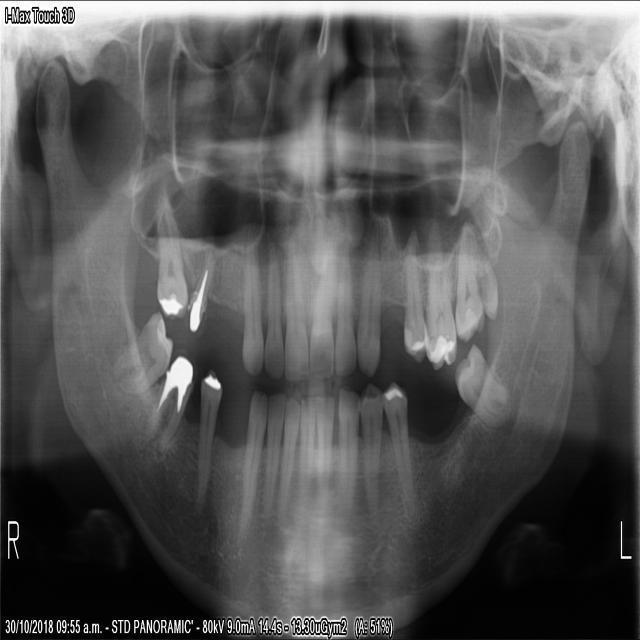LCD: (336, 384, 359, 501)
LCU: (355, 231, 381, 379)
LID: (315, 393, 334, 498), (297, 391, 316, 494)
LIU: (308, 247, 334, 383), (334, 238, 355, 379)
LMD: (452, 337, 507, 426)
LMU: (424, 221, 456, 370), (453, 219, 485, 344)
LPMD: (380, 380, 412, 511), (359, 380, 382, 505)
LPMU: (401, 226, 427, 362)
RCD: (233, 385, 265, 537), (194, 365, 222, 506)
RCU: (239, 231, 262, 377)
RID: (261, 388, 285, 512), (274, 394, 298, 509)
RIU: (282, 231, 308, 382), (262, 239, 282, 380)
RMD: (153, 188, 187, 320)
